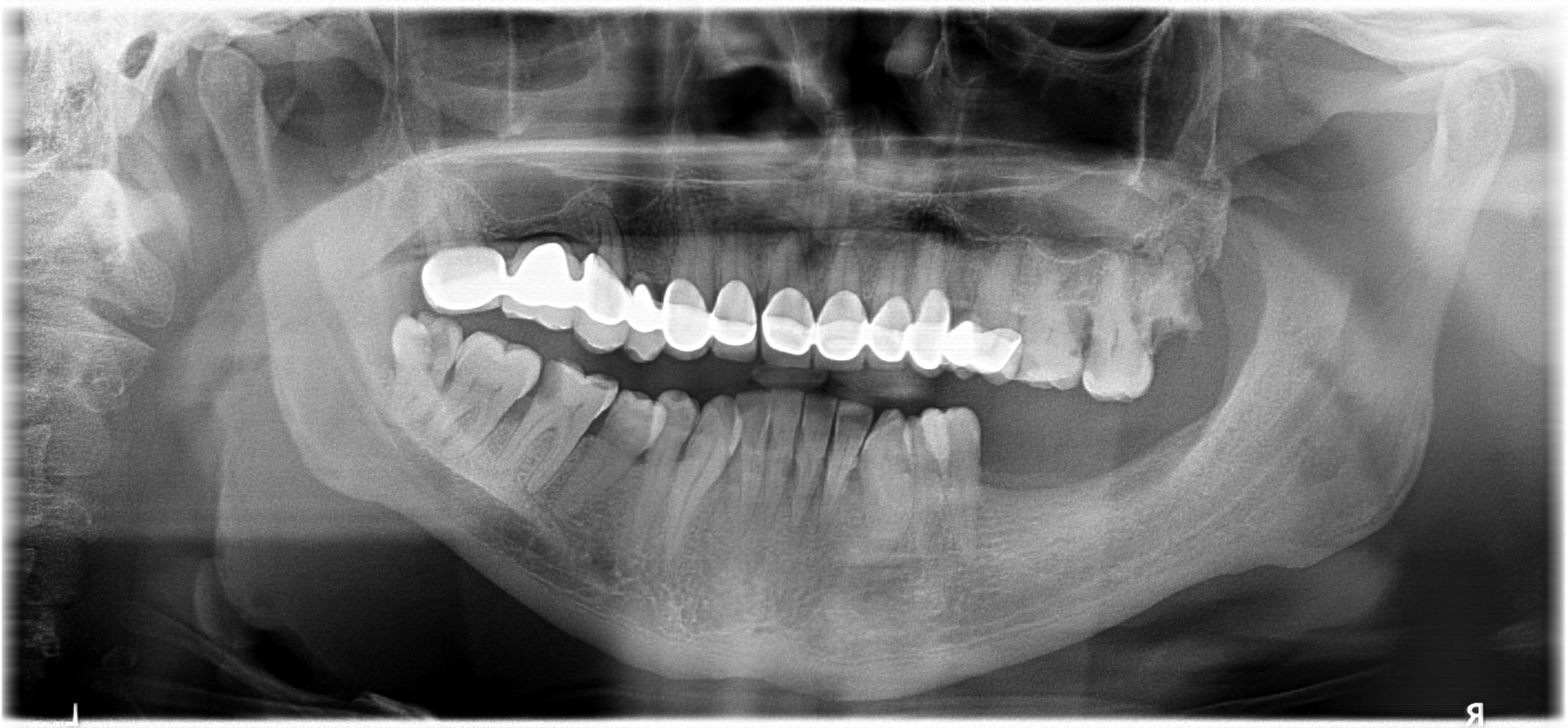Premolars: (538, 209, 1568, 561), (582, 209, 1568, 562), (600, 159, 1568, 414), (313, 206, 929, 580), (229, 183, 697, 506)
